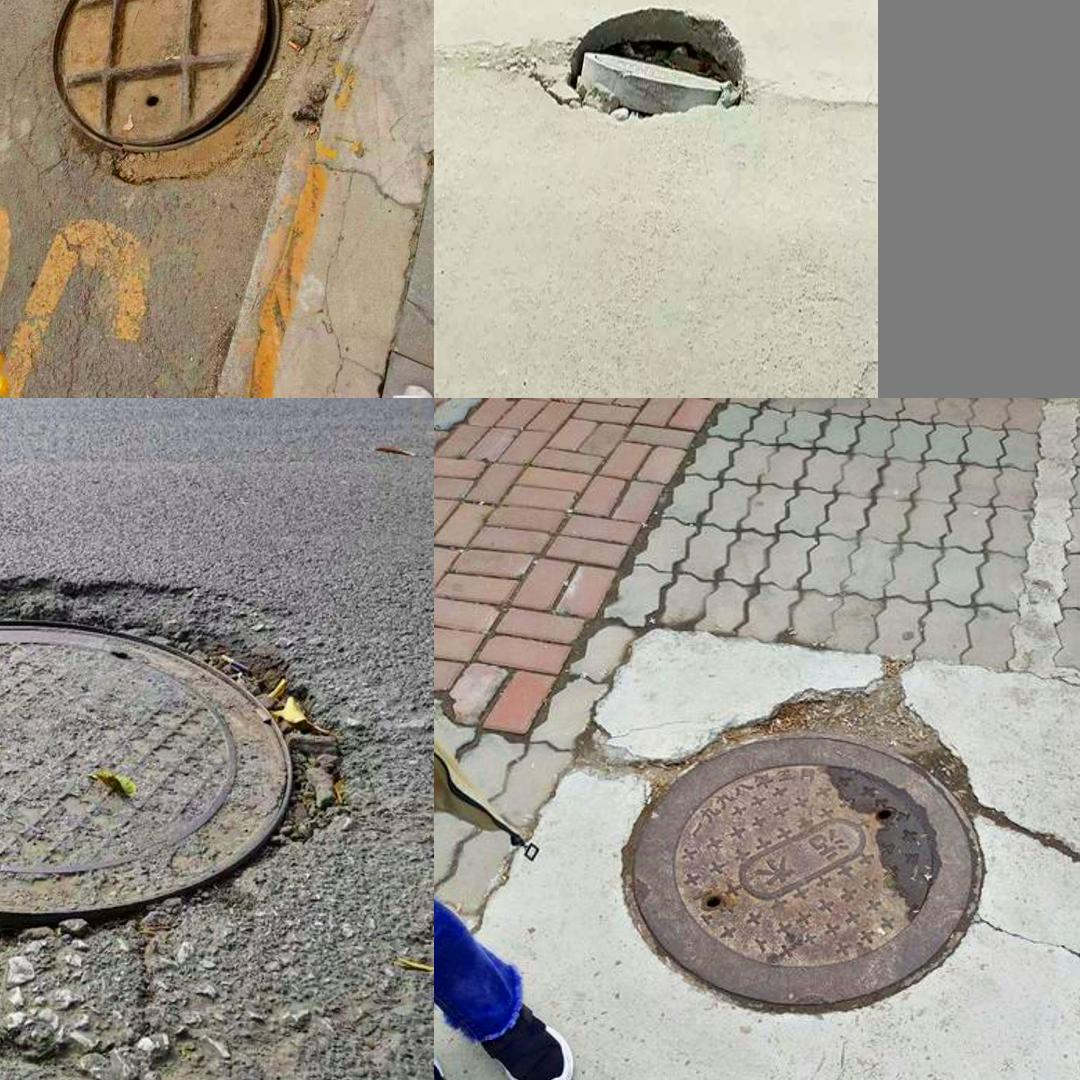circle: (552, 667, 1075, 1059), (0, 574, 413, 1069), (29, 0, 373, 220), (505, 0, 766, 154)
